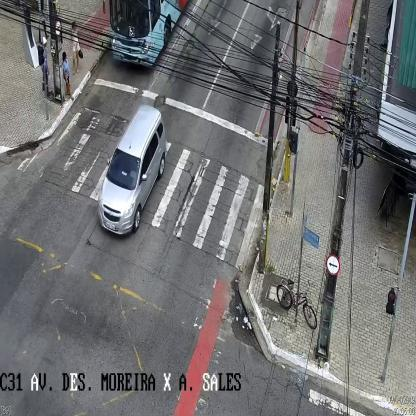bicycle: (276, 278, 316, 329)
bus: (112, 0, 198, 69)
car: (97, 103, 166, 238)
person: (70, 18, 84, 74), (41, 35, 52, 94), (61, 51, 73, 99)
